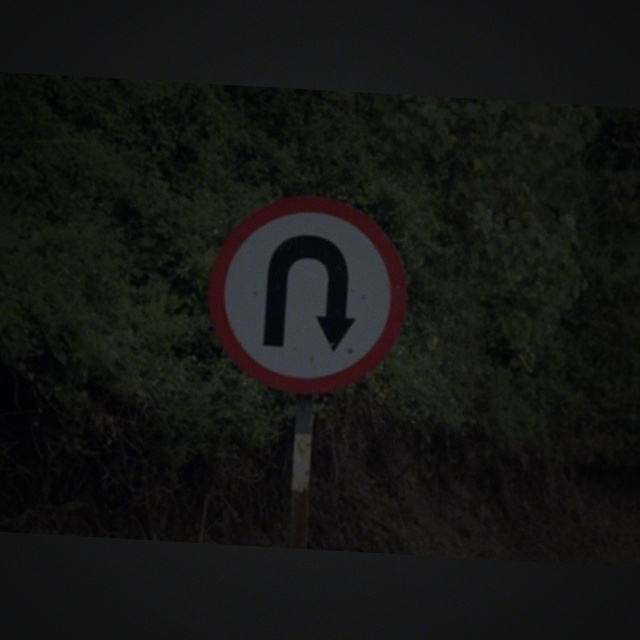U_Turn_Ahead: (203, 195, 419, 393)
